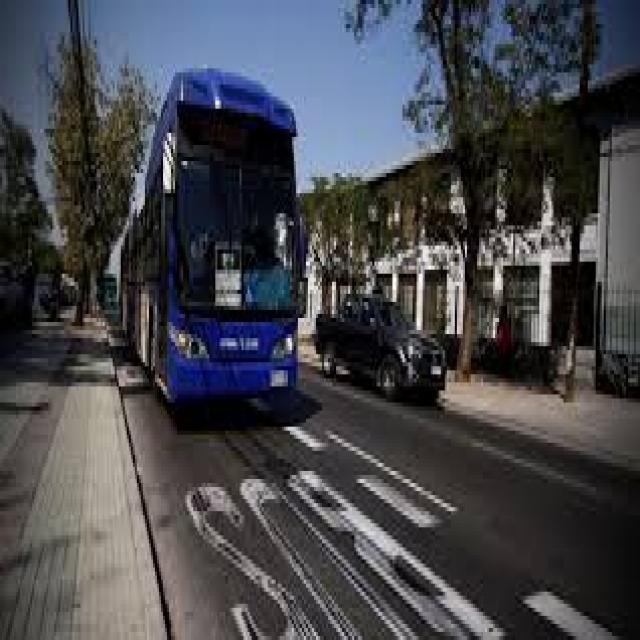AB: (117, 68, 304, 414)
